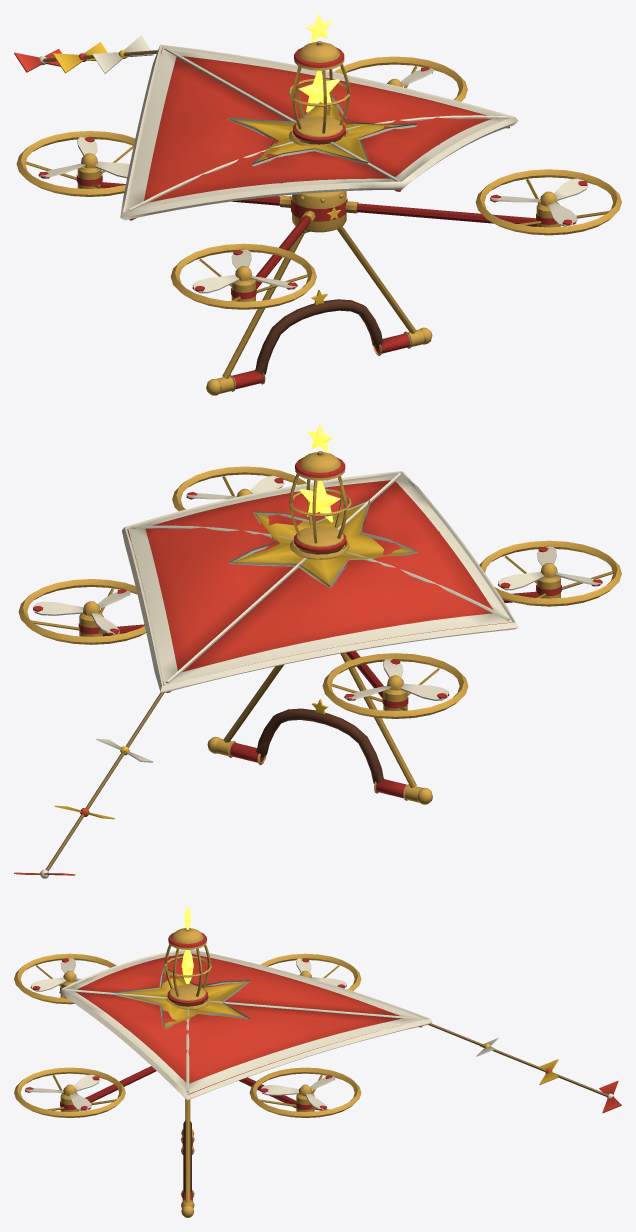
File: star-kite.glb
The picture shows the model from 3 angles, top to bottom: view 1: azimuth 30°, elevation 25°; view 2: azimuth 150°, elevation 25°; view 3: azimuth 270°, elevation 25°; orthographic projection. The views are drawn at different scales.
Visible parts, largest first — view 1: Canopy, Star kite Brass, Star kite Red lacquer, Star kite Dark wood, Rotor_1, Rotor_2, Rotor_4, Tail_1, Core, Tail_2, Tail_3; view 2: Canopy, Star kite Brass, Star kite Red lacquer, Star kite Dark wood, Rotor_3, Rotor_2, Rotor_4, Rotor_1, Core; view 3: Canopy, Star kite Brass, Star kite Red lacquer, Rotor_3, Rotor_1, Rotor_2, Tail_3, Tail_2, Rotor_4.
Boxes of the visible parts, <box> form: Canopy: <box>120,44,517,220</box>; Star kite Brass: <box>16,41,621,395</box>; Star kite Red lacquer: <box>76,47,557,389</box>; Star kite Dark wood: <box>254,299,383,374</box>; Rotor_1: <box>490,178,588,226</box>; Rotor_2: <box>192,249,297,293</box>; Rotor_4: <box>38,137,129,178</box>; Tail_1: <box>92,35,157,73</box>; Core: <box>298,70,339,112</box>; Tail_2: <box>53,42,107,73</box>; Tail_3: <box>14,48,62,72</box>; Canopy: <box>122,471,518,692</box>; Star kite Brass: <box>18,451,621,804</box>; Star kite Red lacquer: <box>78,457,561,798</box>; Star kite Dark wood: <box>255,708,384,783</box>; Rotor_3: <box>33,589,130,634</box>; Rotor_2: <box>498,546,602,590</box>; Rotor_4: <box>344,659,449,700</box>; Rotor_1: <box>186,475,284,499</box>; Core: <box>299,480,340,522</box>; Canopy: <box>59,949,432,1100</box>; Star kite Brass: <box>14,928,361,1217</box>; Star kite Red lacquer: <box>60,932,313,1200</box>; Rotor_3: <box>260,1075,335,1110</box>; Rotor_1: <box>25,1074,99,1111</box>; Rotor_2: <box>30,958,81,991</box>; Tail_3: <box>553,1072,621,1112</box>; Tail_2: <box>492,1049,558,1085</box>; Rotor_4: <box>296,958,346,988</box>.
Size of the model in its own units: 1.81 by 1.42 by 2.89.
